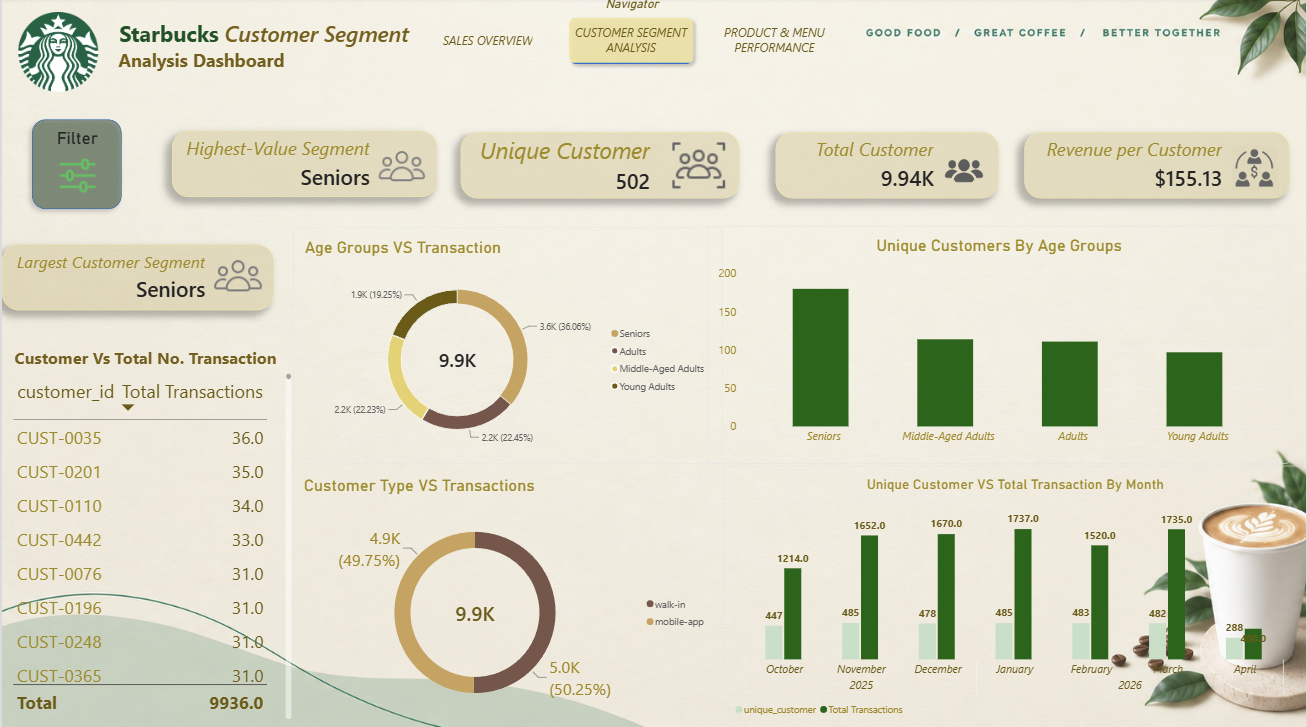

The page's visual inventory and layout, read from the dashboard file:
{"tool":"powerbi","page":{"name":"CUSTOMER SEGMENT ANALYSIS","canvas":[1920,1080],"ordinal":1},"visuals":[{"type":"shape","box":[33.8,168.8,154,154],"z":0,"group":"g1"},{"type":"clusteredColumnChart","title":" Unique Customer VS Total Transaction By Month","fields":{"Category":["Calender.datetime.Variation.Date Hierarchy.Year","Calender.datetime.Variation.Date Hierarchy.Month"],"Y":["public sales.unique_customer","Table.Total Transactions"]},"box":[1061.5,690.1,858.9,390.1],"z":0},{"type":"image","title":"Filter","box":[36.7,192.6,148.8,95.2],"z":1000,"group":"g1"},{"type":"columnChart","title":"Unique Customers By Age Groups","fields":{"Category":["public customers.Age Group"],"Y":["Table.Unique Customer"]},"box":[1038,336.8,858.9,350.7],"z":1000},{"type":"donutChart","title":" Age Groups VS Transaction","fields":{"Category":["public customers.Age Group"],"Y":["Table.Total Transactions"]},"box":[429.5,339.4,632,348.8],"z":2000},{"type":"donutChart","title":" Customer Type VS Transactions","fields":{"Category":["public sales.customer_type"],"Y":["Table.Total Transactions"]},"box":[429.5,690.1,630.1,390.1],"z":3000},{"type":"tableEx","title":"Unique Customers By Age Groups","fields":{"Values":["public sales.customer_id","Table.Total Transactions"]},"box":[0,540.1,442.6,540.1],"z":4000},{"type":"image","box":[18.8,22.5,128.8,117.8],"z":5000},{"type":"textbox","box":[163.2,31.9,474.5,108.8],"z":6000},{"type":"textbox","box":[18.8,497,457.6,60],"z":7000},{"type":"cardVisual","fields":{"Data":["Table.Revenue per Customer"]},"box":[1505.5,198.8,390.2,97.5],"z":8000},{"type":"cardVisual","fields":{"Data":["Table.Total Customer"]},"box":[1139.3,198.8,327.6,97.5],"z":9000},{"type":"cardVisual","fields":{"Data":["Table.Unique Customer"]},"box":[675.9,199.2,410.4,97.5],"z":10000},{"type":"cardVisual","fields":{"Data":["Table.Largest Customer Segment"]},"box":[0,364.9,400.3,96.8],"z":11000},{"type":"cardVisual","fields":{"Data":["Table.Highest-Value Segment"]},"box":[249.5,197.4,390.2,97.5],"z":12000},{"type":"group","id":"g1","title":"slicerpanelhidden","box":[33.8,168.8,153.2,153.2],"z":18000},{"type":"pageNavigator","title":"Navigator","box":[614.4,0,625.6,108],"z":19001}]}

Visuals, with their boxes in screenshot pixels (x1, y1, x2, y2), scaled from the page's 1920x1080 canvas onto the 1307x727 screenshot:
shape: bbox=(23, 114, 128, 217)
" Unique Customer VS Total Transaction By Month" clusteredColumnChart: bbox=(723, 465, 1306, 726)
"Filter" image: bbox=(25, 130, 126, 194)
"Unique Customers By Age Groups" columnChart: bbox=(707, 227, 1291, 463)
" Age Groups VS Transaction" donutChart: bbox=(292, 228, 723, 463)
" Customer Type VS Transactions" donutChart: bbox=(292, 465, 721, 726)
"Unique Customers By Age Groups" tableEx: bbox=(0, 364, 301, 726)
image: bbox=(13, 15, 100, 94)
textbox: bbox=(111, 21, 434, 95)
textbox: bbox=(13, 335, 324, 375)
cardVisual - Table.Revenue per Customer: bbox=(1025, 134, 1290, 199)
cardVisual - Table.Total Customer: bbox=(776, 134, 999, 199)
cardVisual - Table.Unique Customer: bbox=(460, 134, 739, 200)
cardVisual - Table.Largest Customer Segment: bbox=(0, 246, 272, 311)
cardVisual - Table.Highest-Value Segment: bbox=(170, 133, 435, 199)
"slicerpanelhidden" group: bbox=(23, 114, 127, 217)
"Navigator" pageNavigator: bbox=(418, 0, 844, 73)
